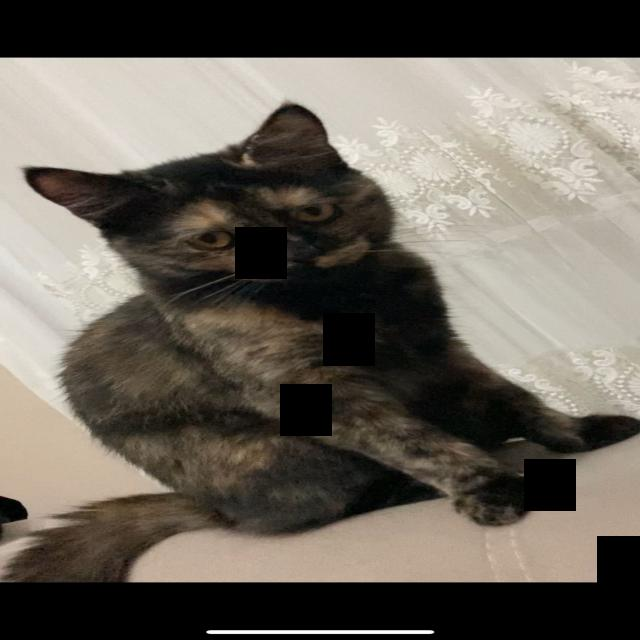authorized: (2, 101, 637, 582)
